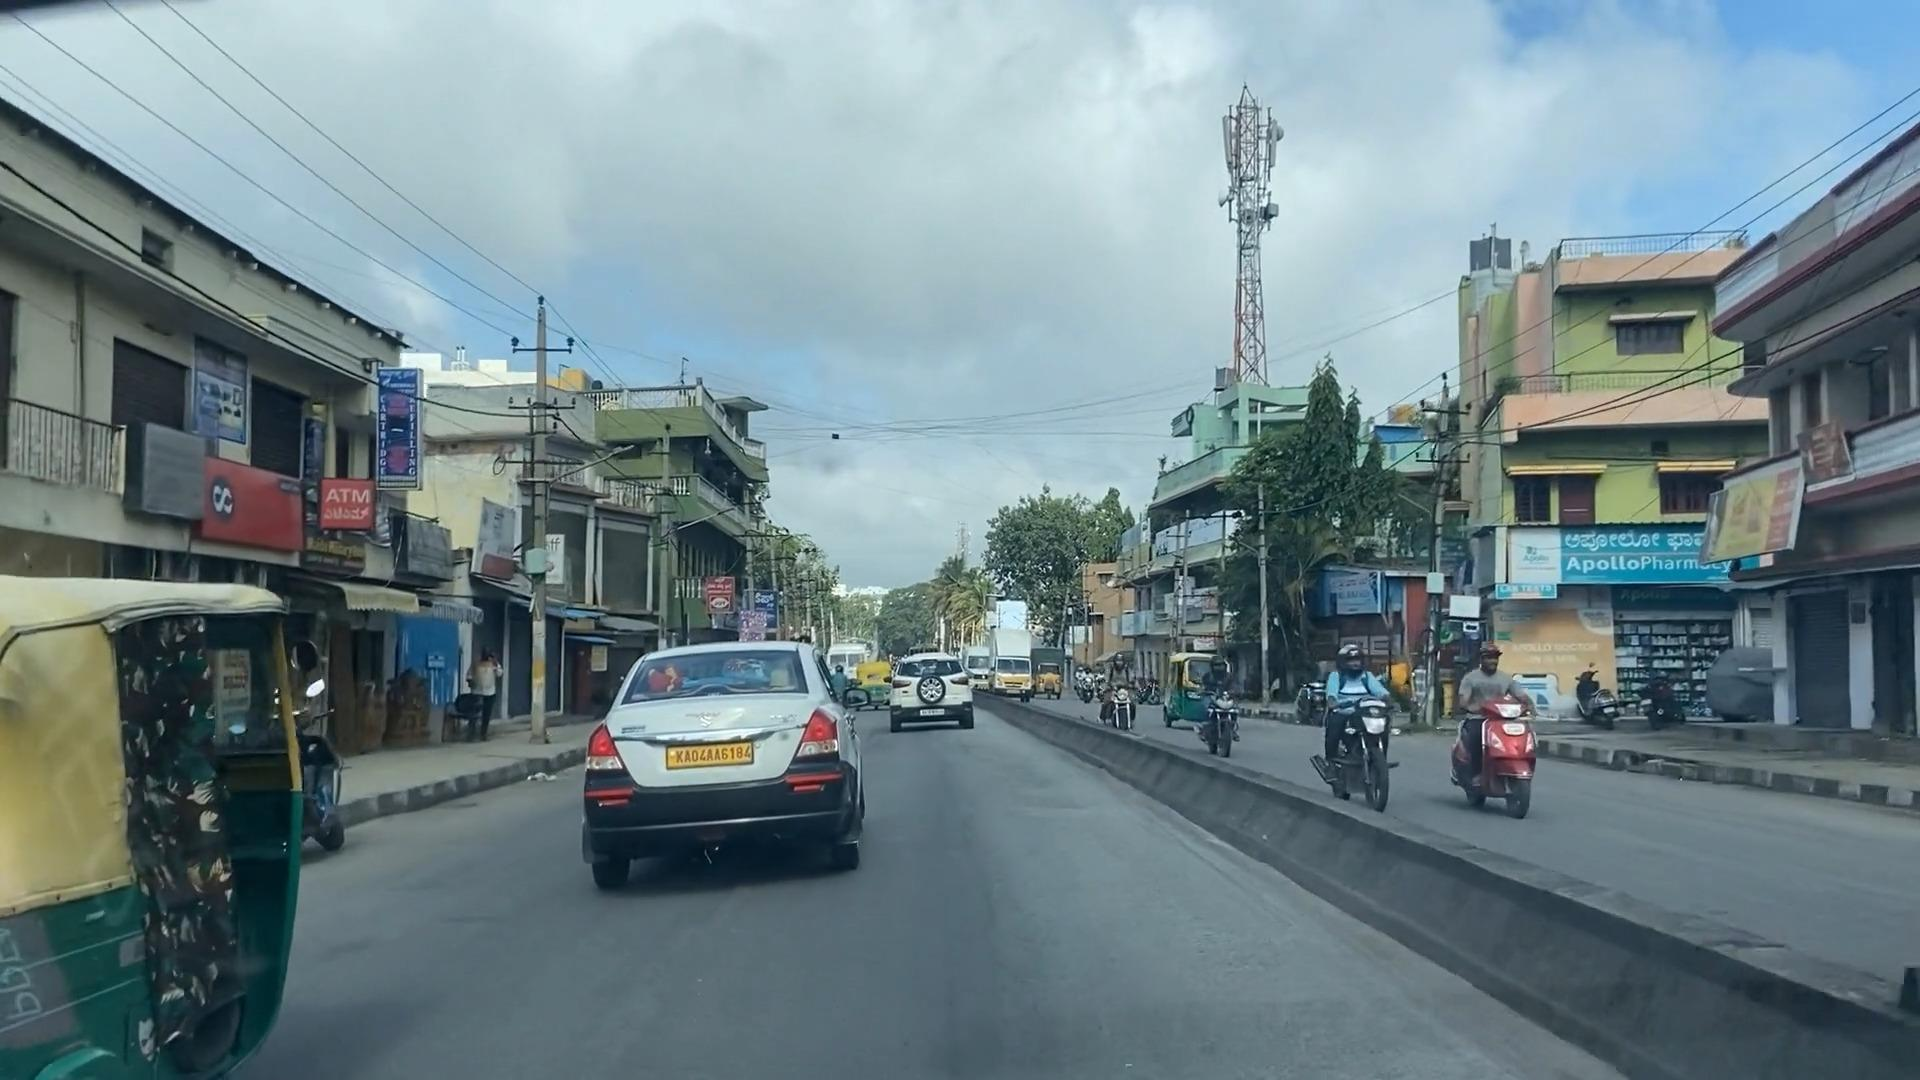LMV: (588, 632, 849, 898), (890, 654, 971, 731)
